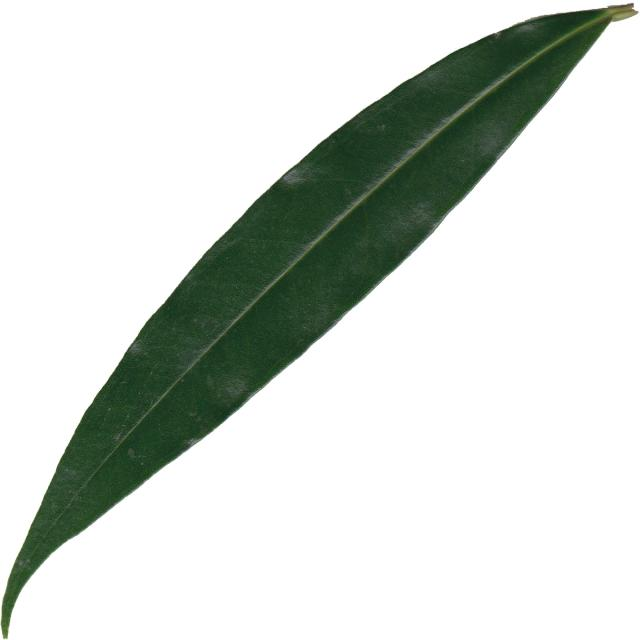Medicinal-Rose Apple: (5, 0, 640, 640)
